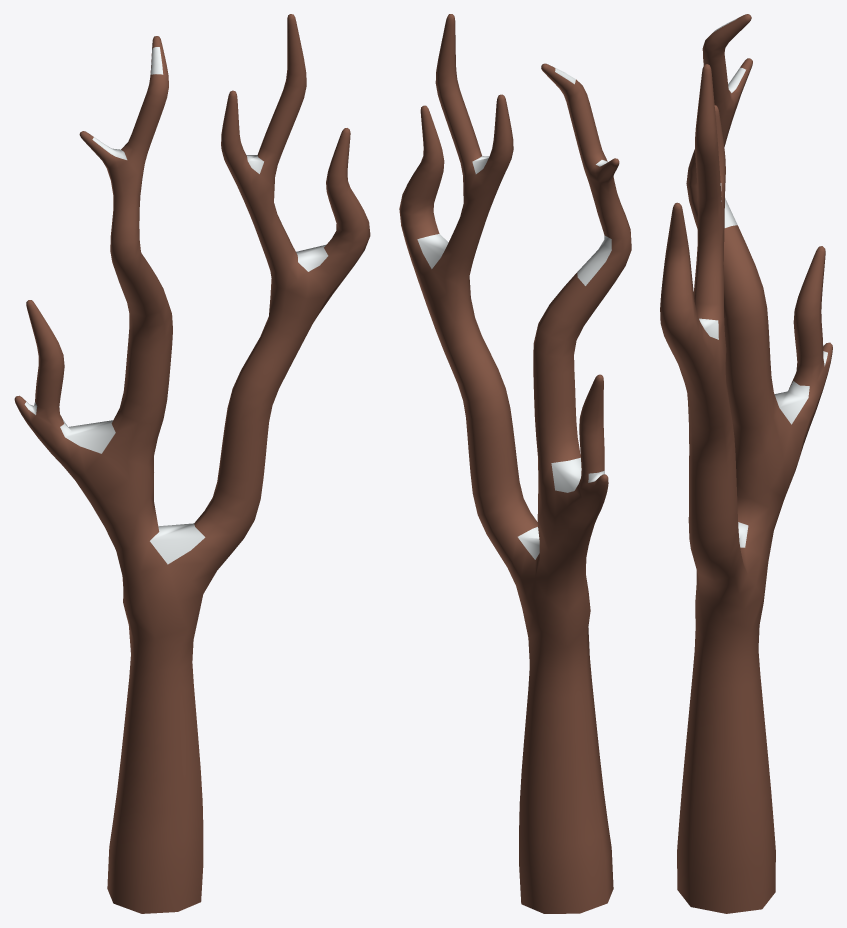
File: Tree Small 2.fbx
3 views of the same model, side by side, from view 1: azimuth 30°, elevation 25°; view 2: azimuth 150°, elevation 25°; view 3: azimuth 270°, elevation 25° (orthographic). The views are drawn at different scales.
Visible parts, largest first — view 1: Tree Small 2; view 2: Tree Small 2; view 3: Tree Small 2.
Boxes of the visible parts, x1,y1,x2,y2 form: Tree Small 2: (14, 14, 370, 913); Tree Small 2: (399, 14, 631, 913); Tree Small 2: (660, 14, 832, 913).
Size of the model in its own units: 504 by 1472 by 258.
